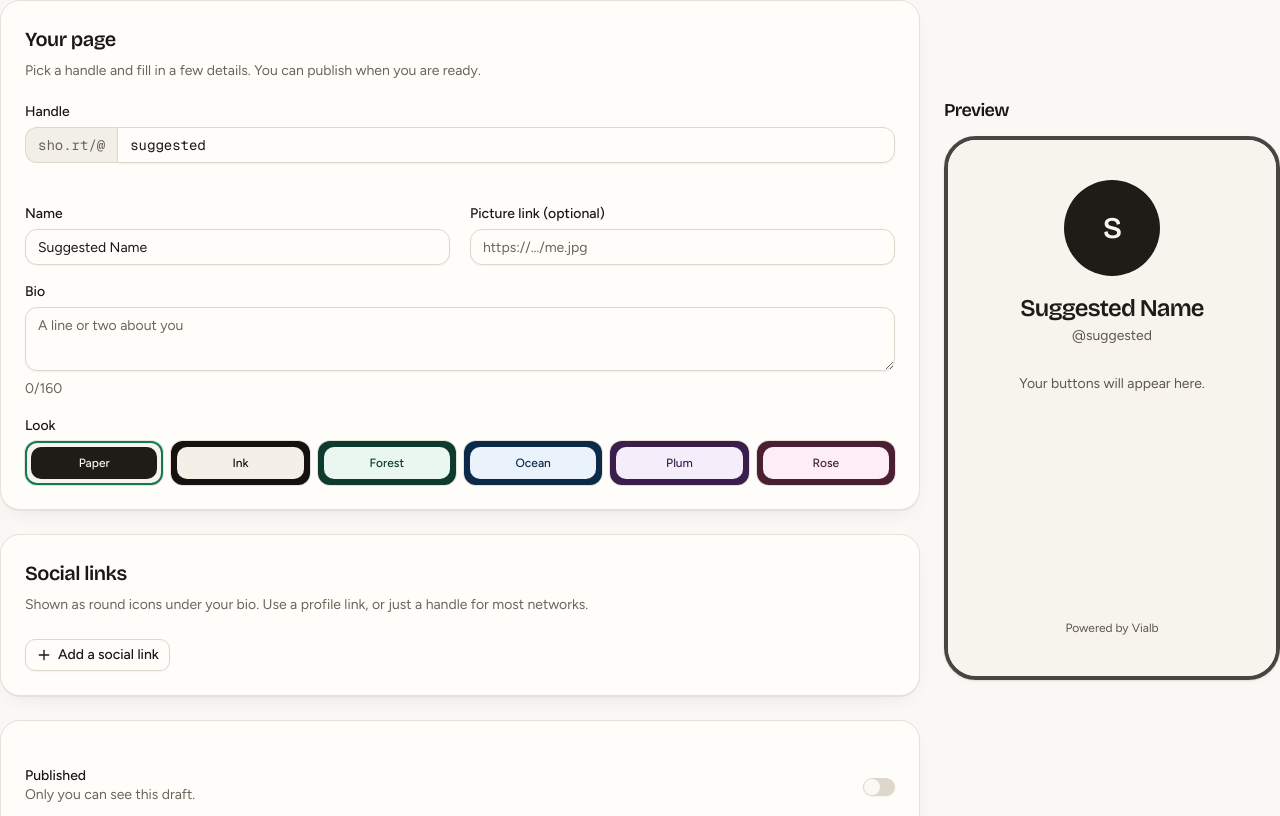
Test: BioEditor before a page exists › rejects a social link that points at the wrong site
This screenshot has width=1280, height=816.
Click the button "Add a social link" at (97, 655), box [25,639,170,671]
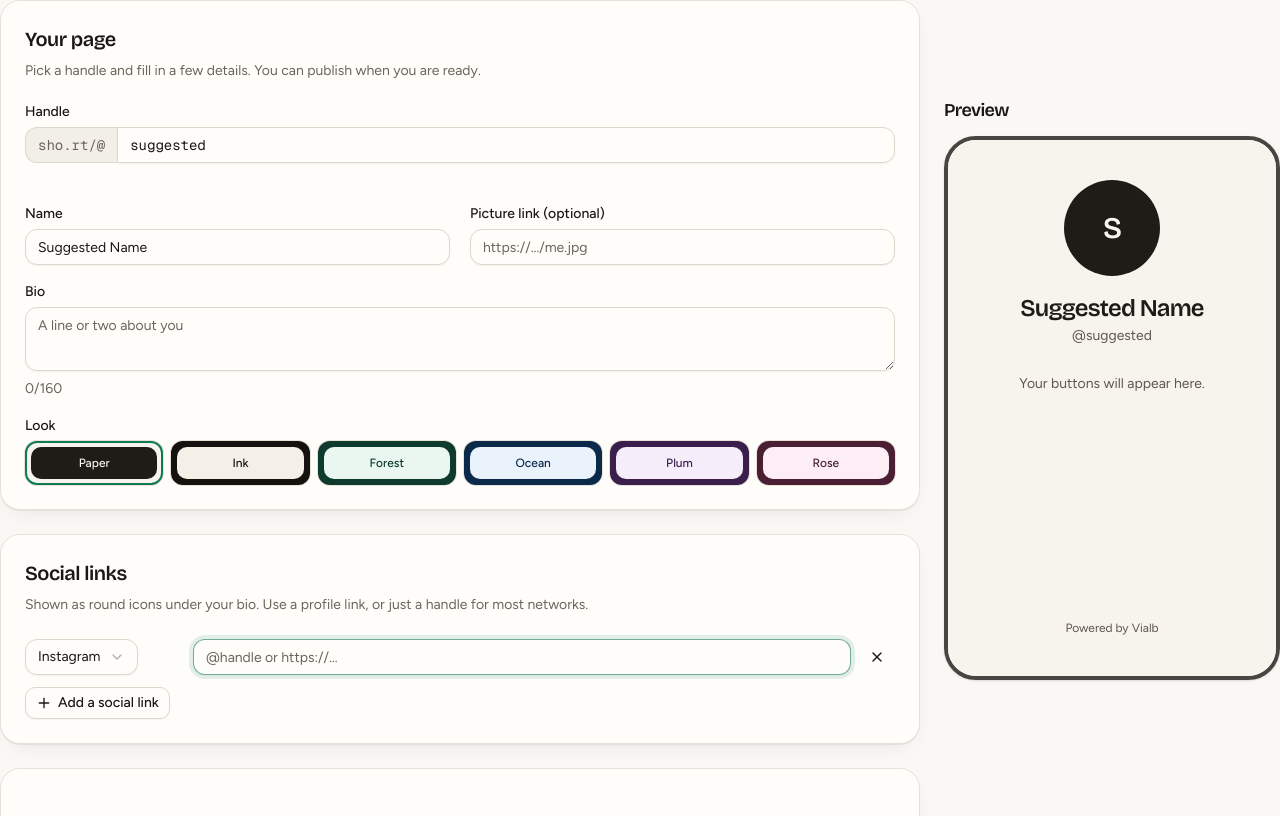
Type "https://evil.example/alice" into the field named "Link 1" at (522, 657), box [193,639,851,675]
(page scrolled)
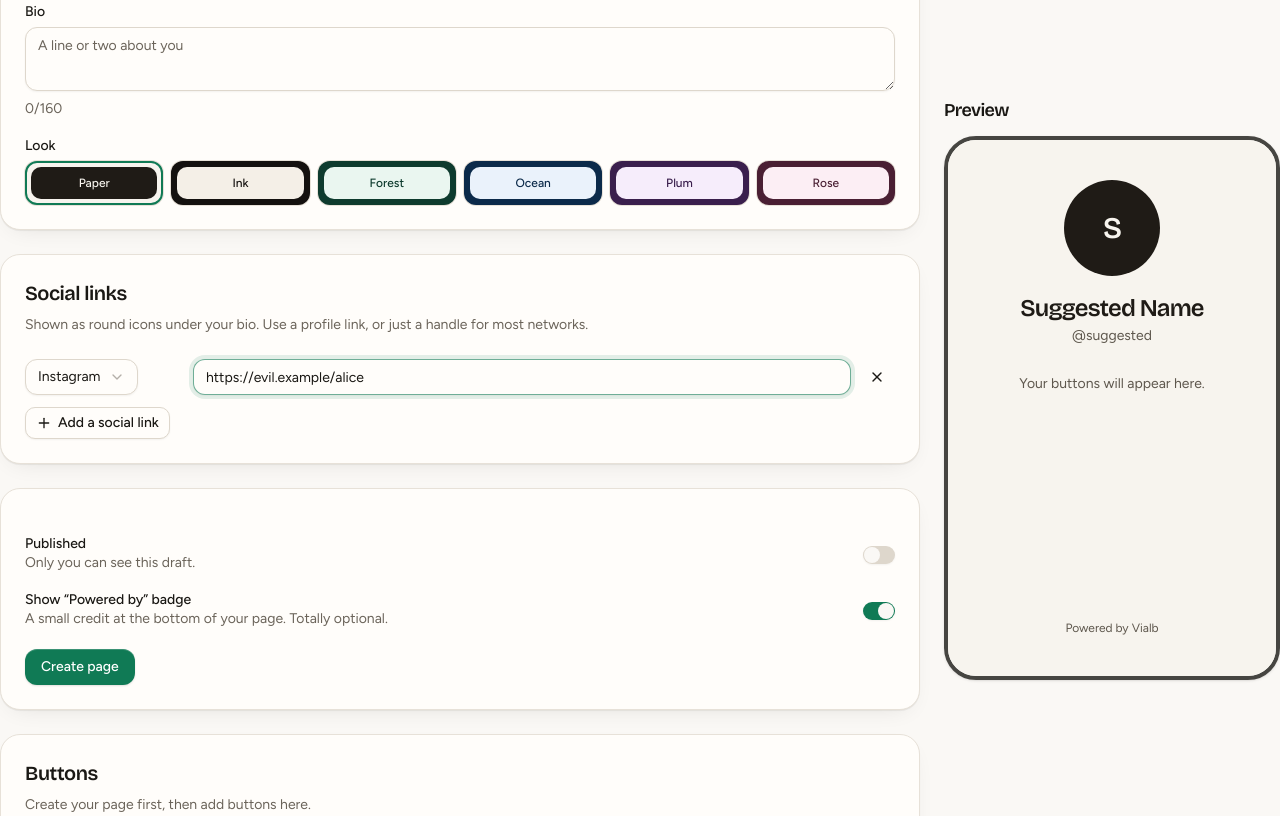
Click the button with test id "bio-save" at (80, 667), box [25,649,135,685]
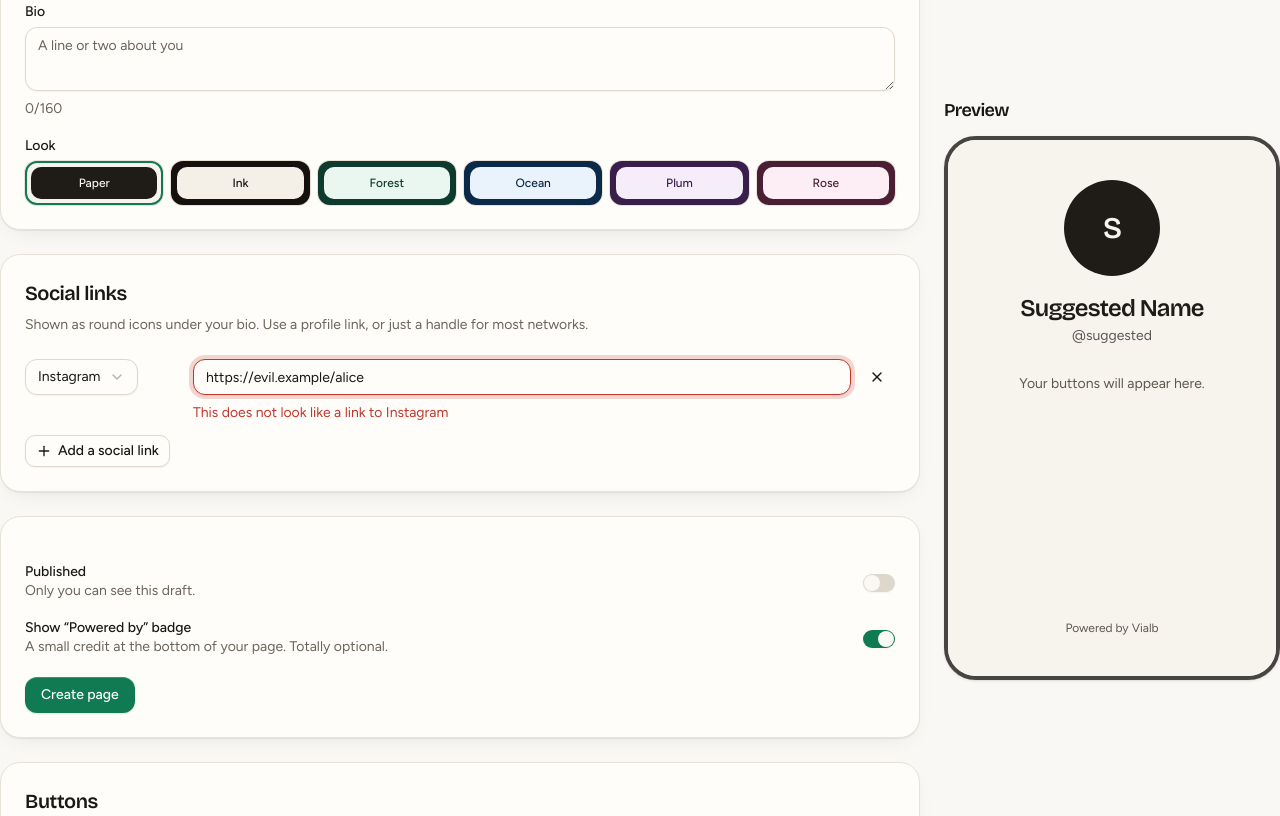
expect the text "This does not look like a link to Instagram" is shown: met, box [193,404,448,421]
